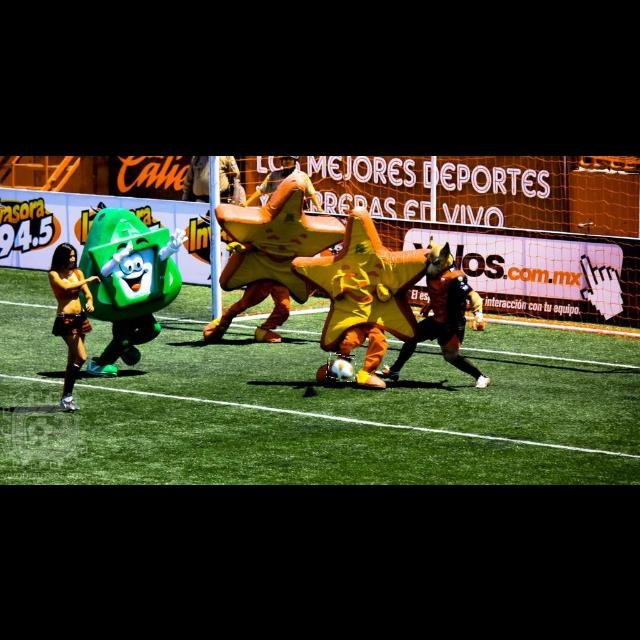Football: (327, 355, 355, 381)
